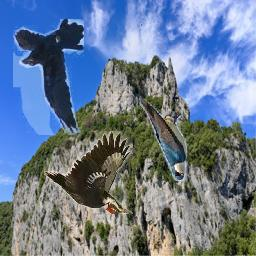Crow: (14, 19, 85, 135)
Swallow: (138, 97, 189, 184)
Woodpecker: (45, 132, 134, 215)
